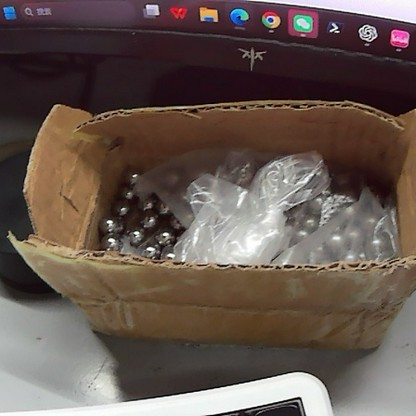ironball: (150, 226, 175, 249), (124, 160, 144, 187), (99, 234, 126, 253), (99, 214, 120, 235), (120, 184, 142, 204), (142, 240, 159, 259), (159, 248, 179, 264), (156, 199, 174, 214), (142, 213, 157, 231), (113, 200, 127, 219), (137, 194, 155, 208), (127, 225, 144, 239)
